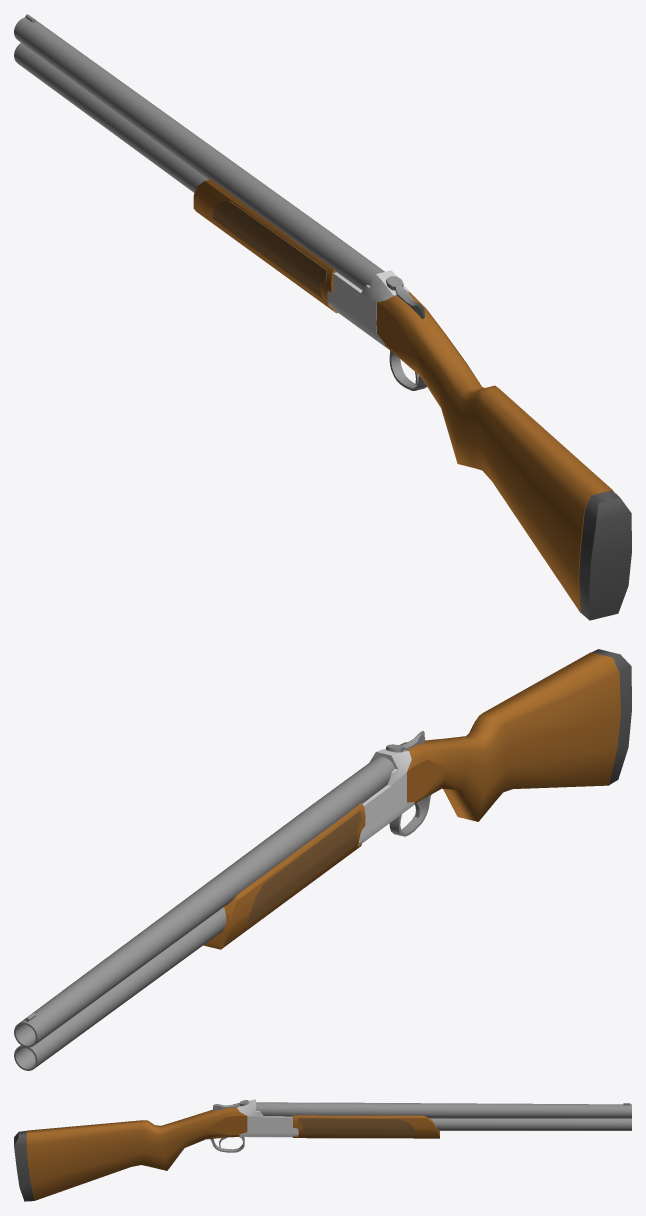
File: bk_citori725.glb
3 renders of one model, top to bottom at view 1: azimuth 30°, elevation 25°; view 2: azimuth 150°, elevation 25°; view 3: azimuth 270°, elevation 25°, orthographic. The views are drawn at different scales.
Parts seen in each view (by area): view 1: Cube_0, Cylinder.002_5, Cube.002_8, Cylinder.003_6, Cylinder.005_7, Cube.001_1; view 2: Cube_0, Cylinder.002_5, Cylinder.003_6, Cylinder.005_7, Cube.001_1, Cube.002_8, Cube.005_3; view 3: Cube_0, Cylinder.002_5, Cylinder.003_6, Cylinder.005_7, Cube.001_1, Cube.002_8, Cube.005_3, Cube.003_2.
Boxes of the visible parts, box(x1,y1,x2,y2) form: Cube_0: box(376, 292, 612, 612); Cylinder.002_5: box(14, 14, 384, 290); Cube.002_8: box(579, 490, 631, 620); Cylinder.003_6: box(213, 201, 327, 298); Cylinder.005_7: box(193, 179, 337, 313); Cube.001_1: box(327, 270, 410, 347); Cube_0: box(401, 652, 620, 821); Cylinder.002_5: box(14, 756, 394, 1070); Cylinder.003_6: box(245, 810, 361, 926); Cylinder.005_7: box(203, 803, 365, 949); Cube.001_1: box(358, 749, 414, 844); Cube.002_8: box(592, 649, 631, 784); Cube.005_3: box(389, 794, 431, 836); Cube_0: box(26, 1107, 247, 1200); Cylinder.002_5: box(256, 1102, 631, 1130); Cylinder.003_6: box(298, 1118, 417, 1134); Cylinder.005_7: box(292, 1115, 439, 1138); Cube.001_1: box(237, 1099, 298, 1137); Cube.002_8: box(14, 1130, 33, 1201); Cube.005_3: box(210, 1137, 244, 1152); Cube.003_2: box(213, 1100, 248, 1110).
Bounding box in the file's own units: 0.0488 × 0.2093 × 1.21.
